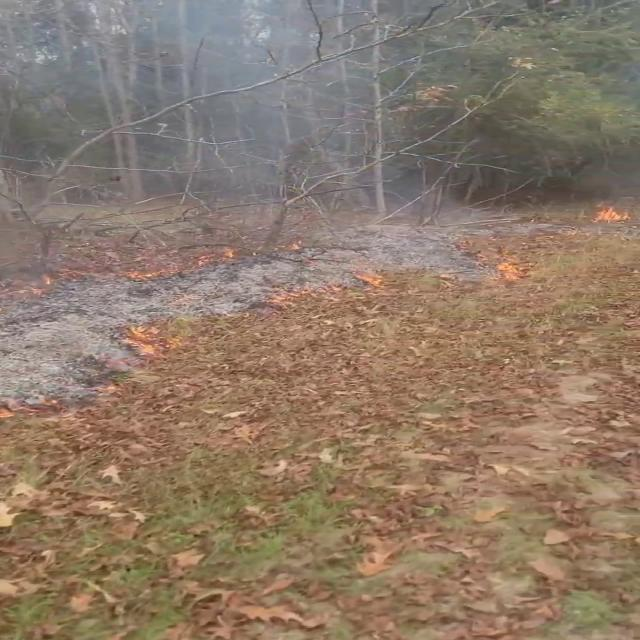Fire: (588, 200, 636, 224)
Smoke: (112, 0, 406, 227)
